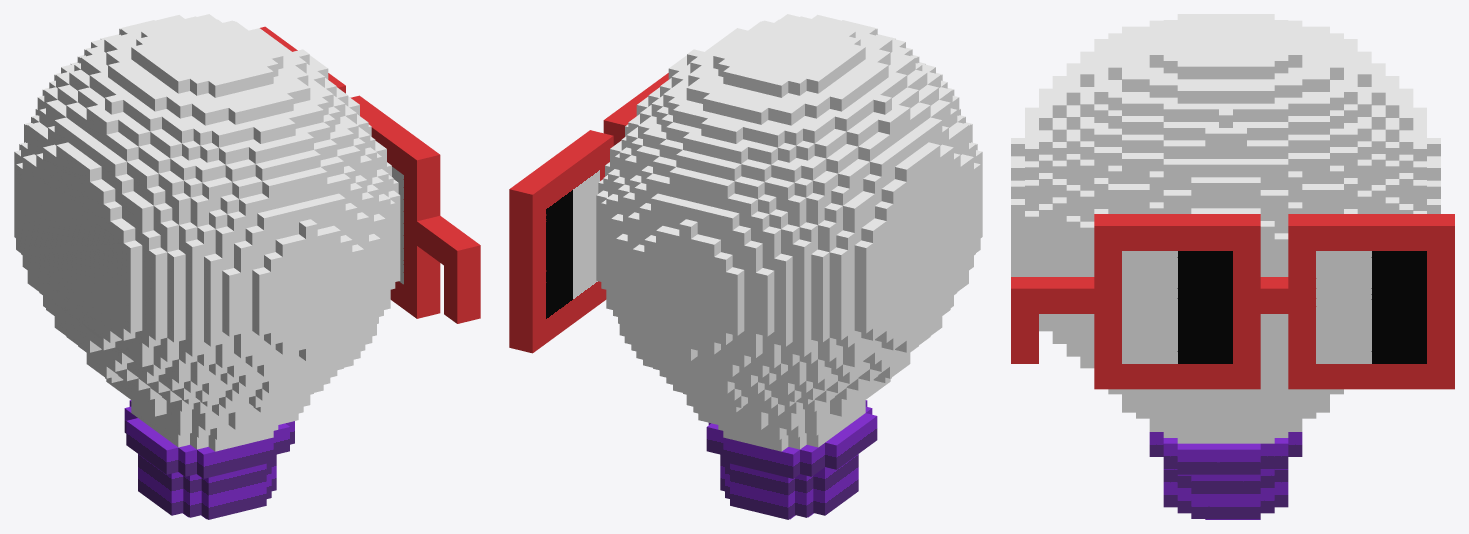
File: PHLight.glb
3 views of the same model, side by side, from view 1: azimuth 30°, elevation 25°; view 2: azimuth 150°, elevation 25°; view 3: azimuth 270°, elevation 25° (orthographic). The views are drawn at different scales.
Parts seen in each view (by area): view 1: PHLight; view 2: PHLight; view 3: PHLight.
Boxes of the visible parts, x1=… form: PHLight: x1=14, y1=14, x2=480, y2=519; PHLight: x1=509, y1=14, x2=982, y2=519; PHLight: x1=1011, y1=14, x2=1454, y2=519.
Size of the model in its own units: 0.26 by 0.37 by 0.32.
1 material, 1 textured.
